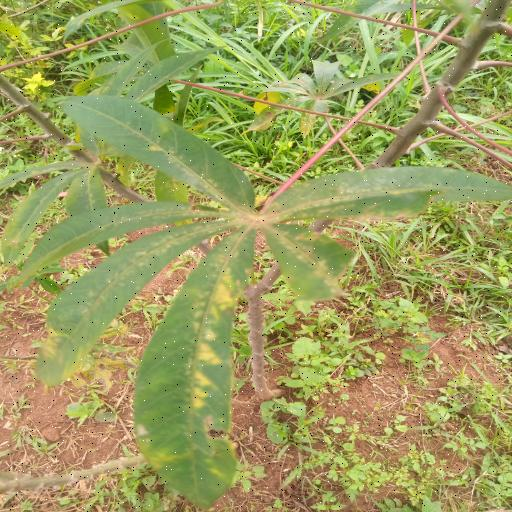Cassava_Mosaic: (23, 81, 512, 510)
